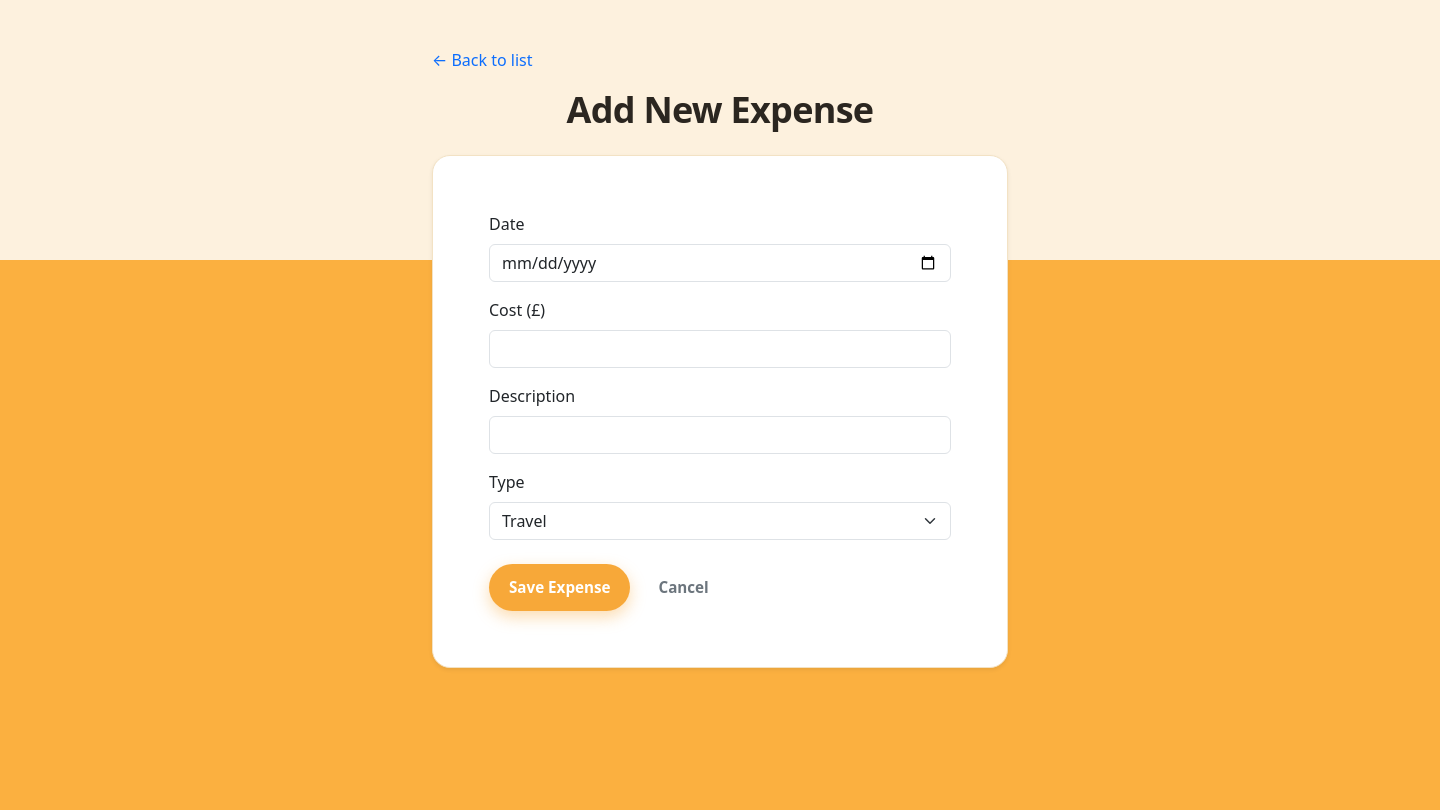
Scenario: AddExpense › shows validation errors returned from the backend
Type "2026-08-23" into the date field labelled "Date" at (720, 263), box top-left (489, 244), bottom-right (951, 282)
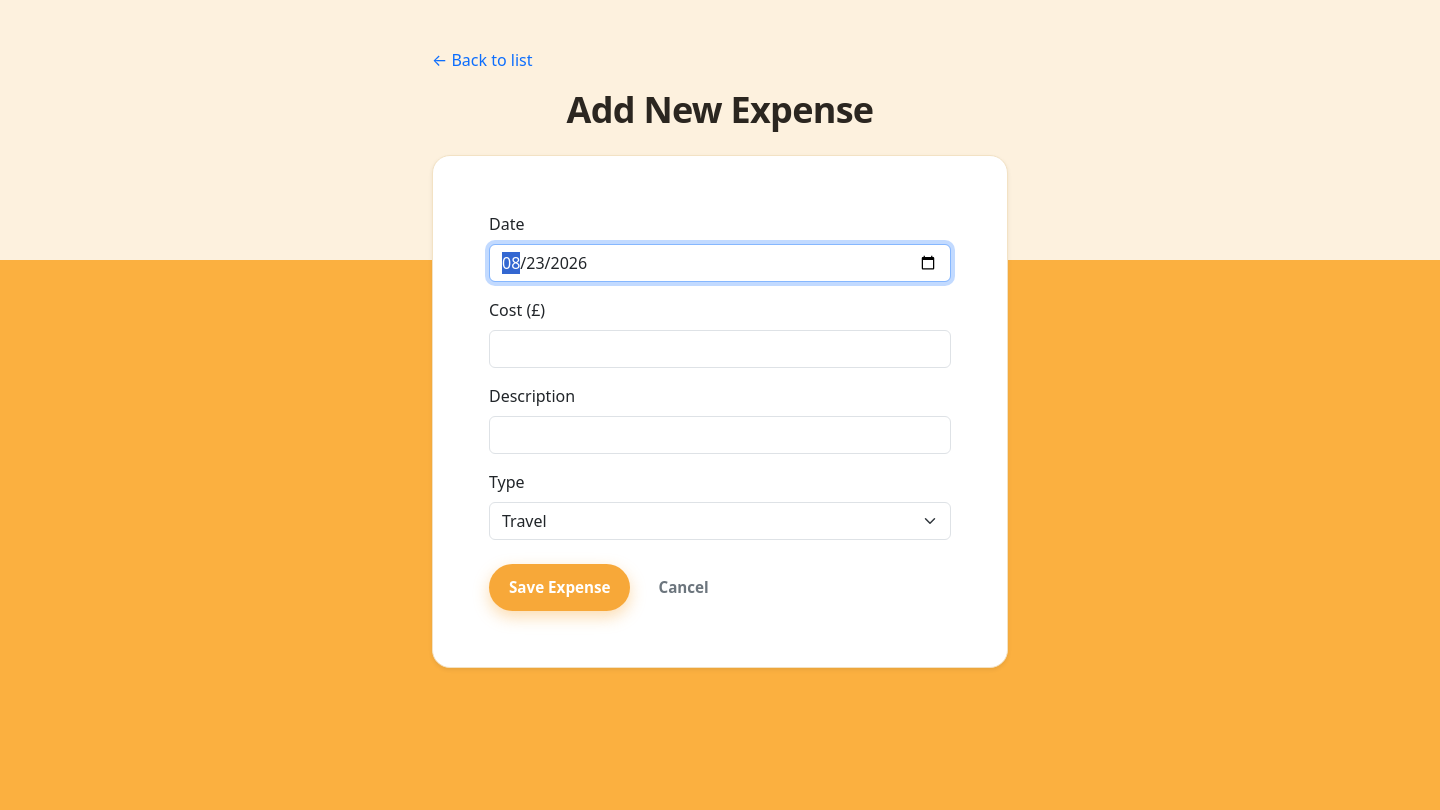
Type "100" into the number field labelled "Cost (£)" at (720, 349), box top-left (489, 330), bottom-right (951, 368)
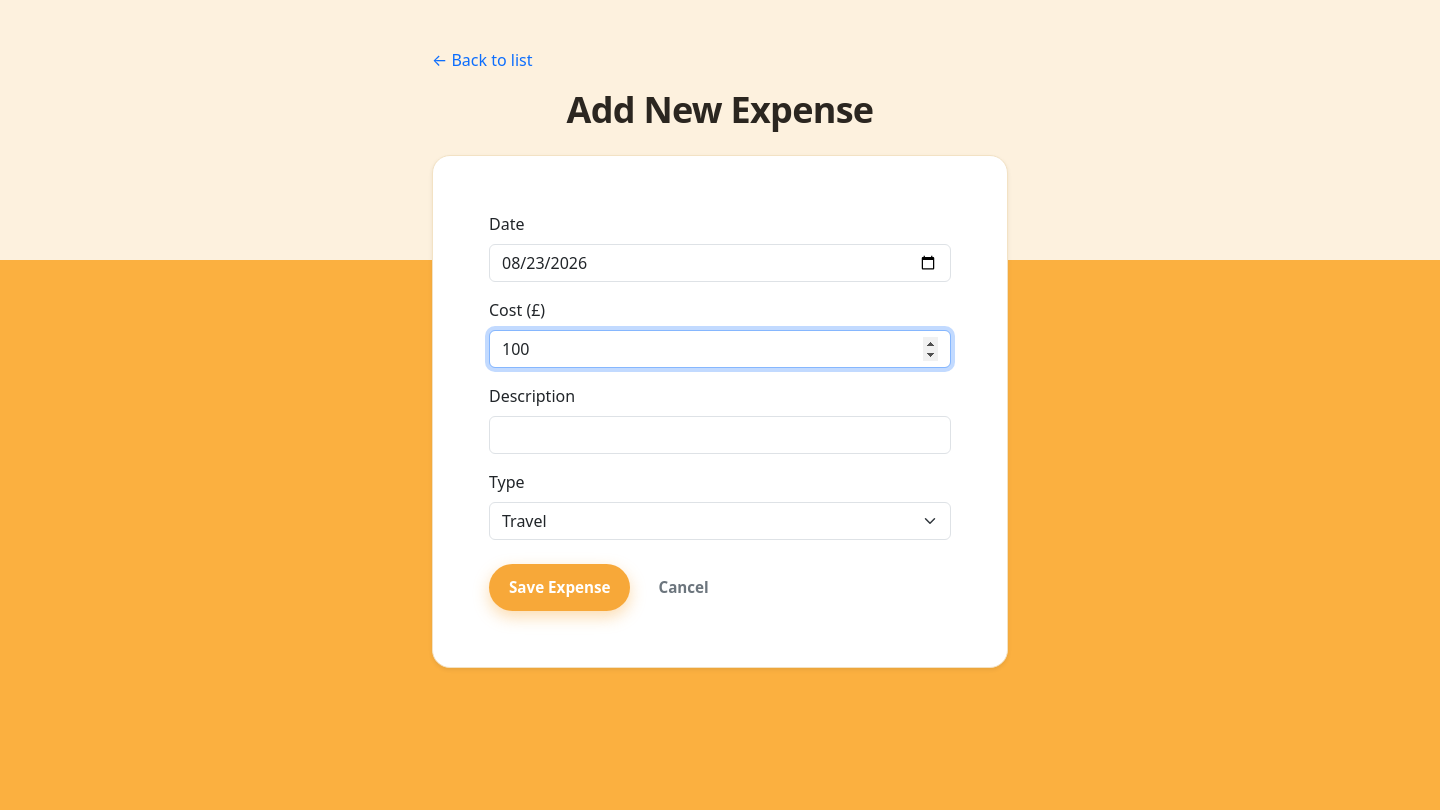
Select "Other" in the dropdown labelled "Type" at (720, 521), box top-left (489, 502), bottom-right (951, 540)
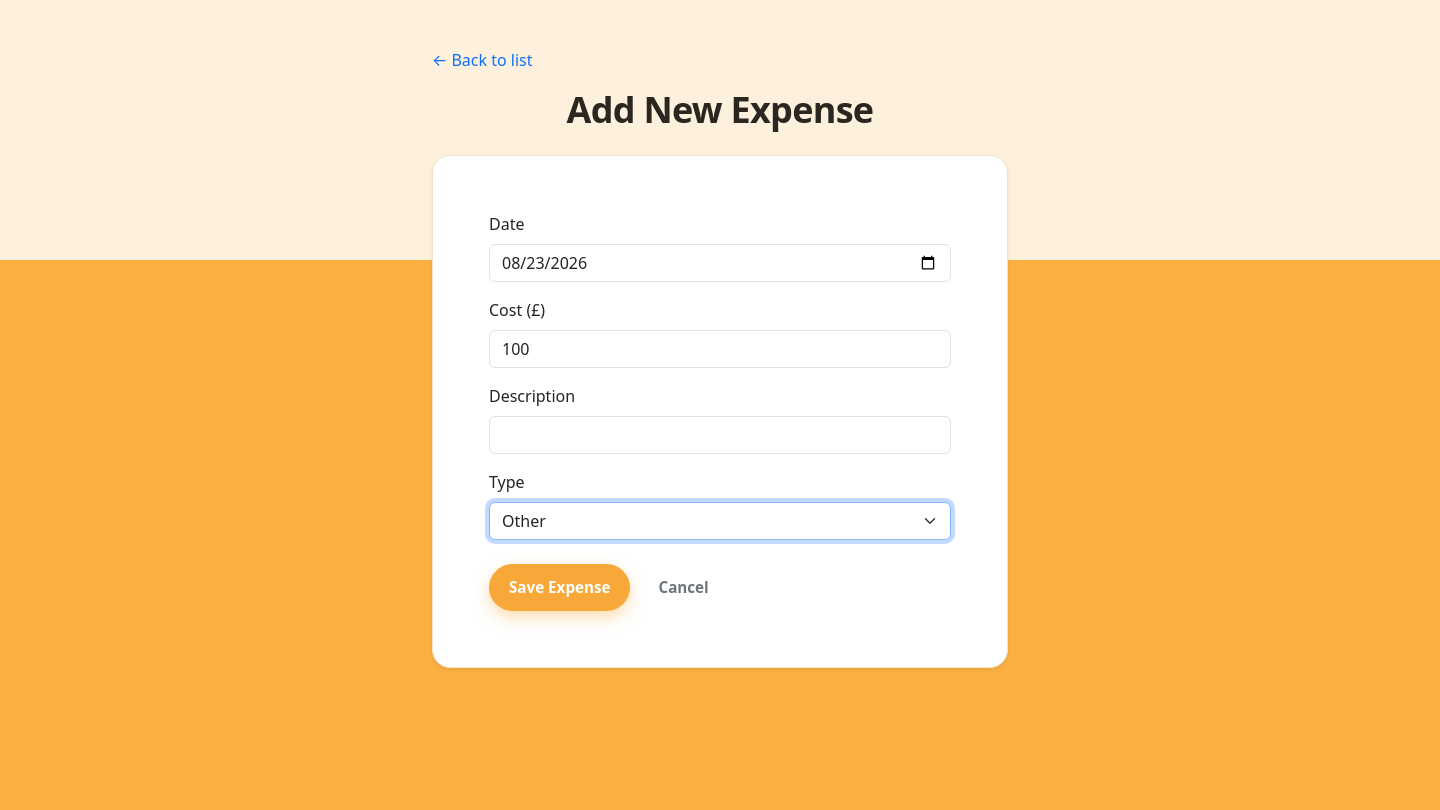
Click the button "Save Expense" at (560, 588), box top-left (489, 564), bottom-right (630, 611)
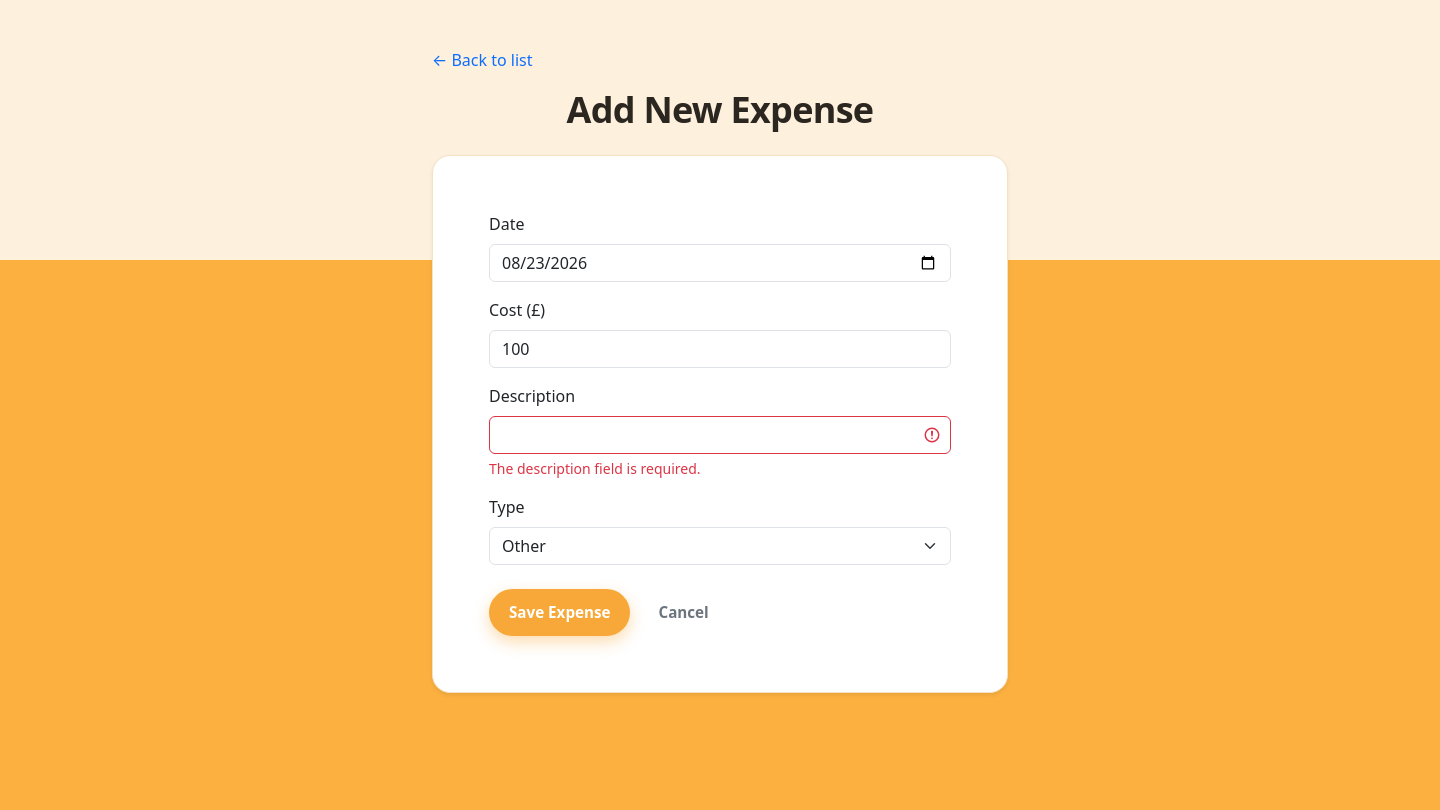
Now the text "The description field is required." is shown, box top-left (489, 459), bottom-right (700, 478)
